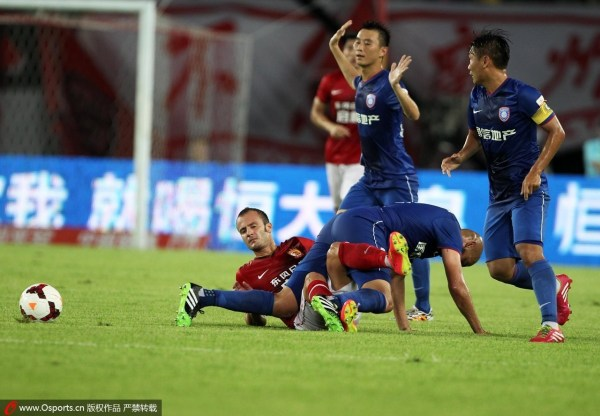fall: (183, 198, 478, 334)
